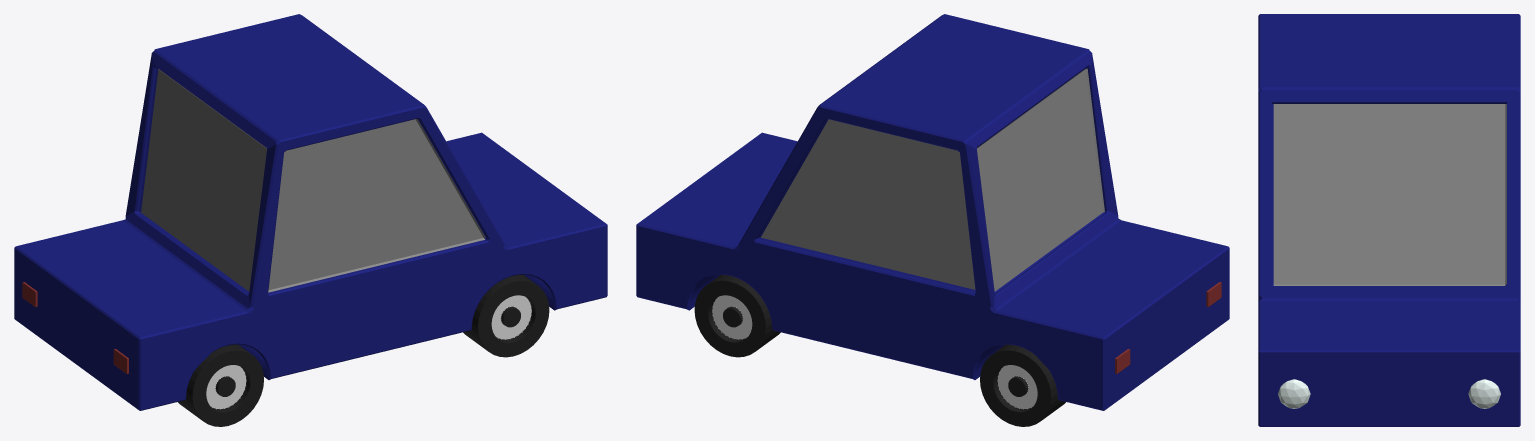
File: araba1.fbx
3 renders of one model, left to right at view 1: azimuth 30°, elevation 25°; view 2: azimuth 150°, elevation 25°; view 3: azimuth 270°, elevation 25°, orthographic. The views are drawn at different scales.
Parts seen in each view (by area): view 1: Cylinder.001; view 2: Cylinder.001; view 3: Cylinder.001.
Part boxes in pixels (x1,y1,x2,y2): Cylinder.001: (14, 14, 607, 426); Cylinder.001: (636, 14, 1229, 426); Cylinder.001: (1258, 14, 1520, 426).
Bounding box in the file's own units: 306 × 167 × 140.
